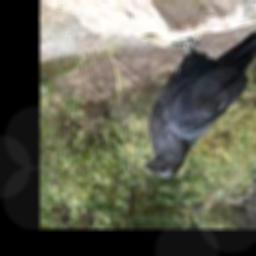Crow: (141, 16, 256, 179)
